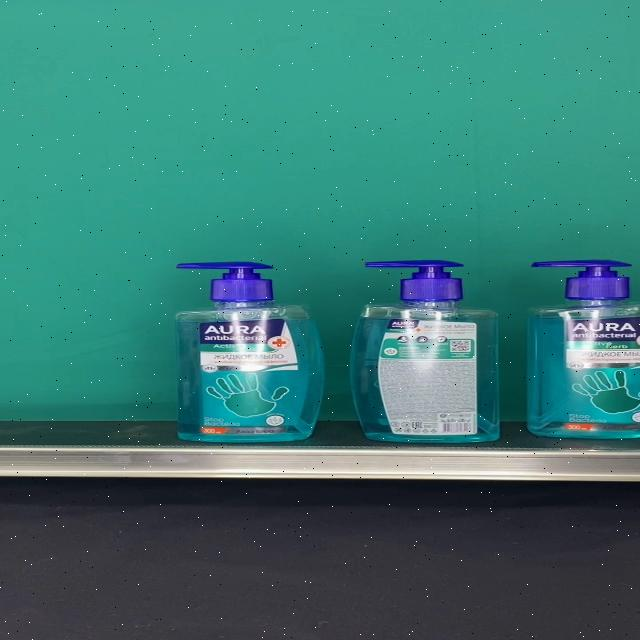Bottle: (172, 261, 324, 441), (353, 259, 500, 443), (527, 259, 640, 439)
Cap: (365, 259, 463, 301), (532, 260, 633, 300), (175, 261, 273, 301)
